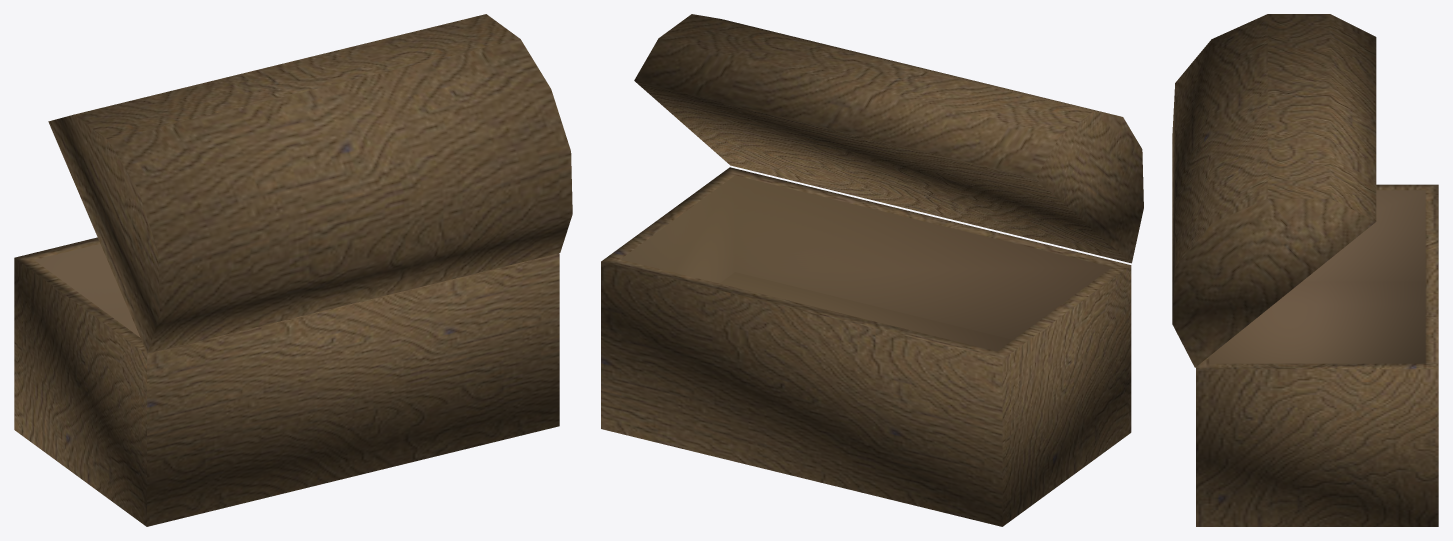
File: chest.glb
3 renders of one model, left to right at view 1: azimuth 30°, elevation 25°; view 2: azimuth 150°, elevation 25°; view 3: azimuth 270°, elevation 25°, orthographic. The views are drawn at different scales.
Parts seen in each view (by area): view 1: Cube; view 2: Cube; view 3: Cube.
Part boxes in pixels (box(x1,y1,x2,y2)): Cube: box(14, 14, 572, 526); Cube: box(601, 14, 1143, 526); Cube: box(1172, 14, 1438, 526).
Bounding box in the file's own units: 3.6 × 2.98 × 2.2.
Materials: 1 (1 with a texture image).
